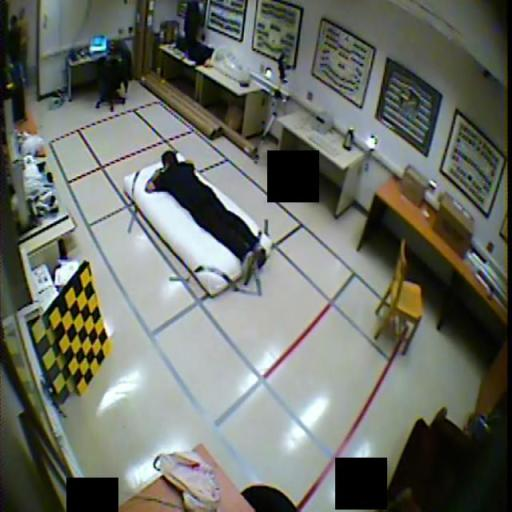Fall: (145, 148, 267, 285)
